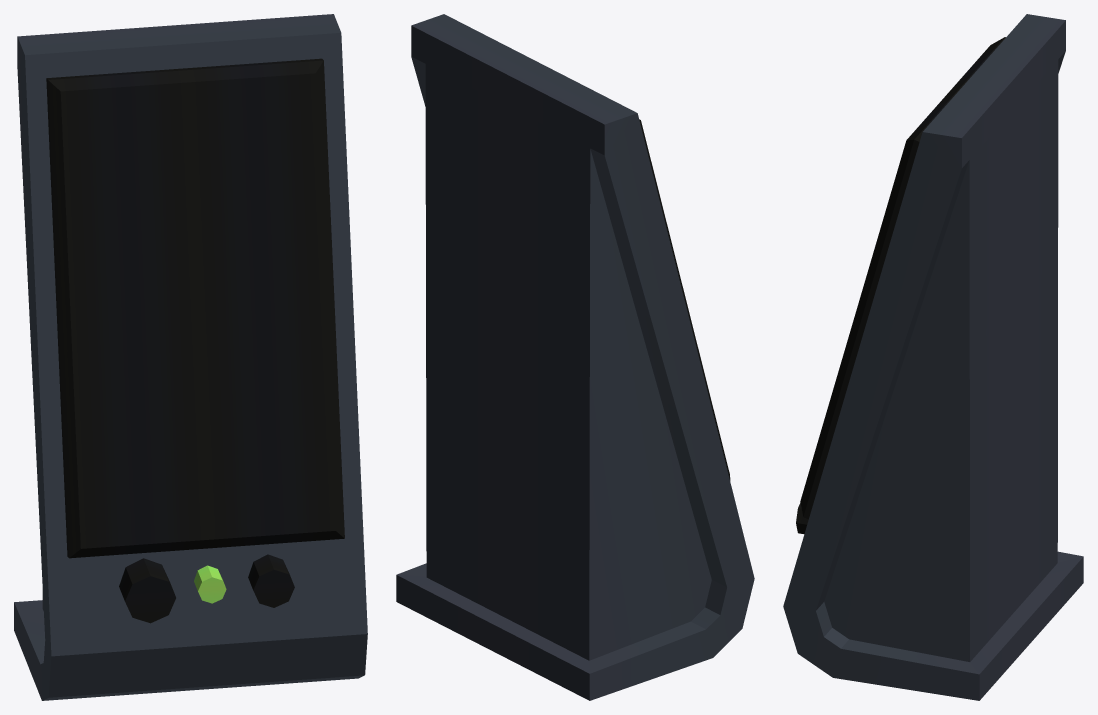
File: kolonka.fbx
3 views of the same model, side by side, from view 1: azimuth 30°, elevation 25°; view 2: azimuth 150°, elevation 25°; view 3: azimuth 270°, elevation 25° (orthographic). The views are drawn at different scales.
Parts seen in each view (by area): view 1: Cube.016; view 2: Cube.016; view 3: Cube.016.
Boxes of the visible parts, box(x1,y1,x2,y2) form: Cube.016: box(14, 14, 367, 700); Cube.016: box(396, 14, 754, 700); Cube.016: box(783, 14, 1083, 700).
Size of the model in its own units: 35.88 by 62.89 by 30.59.
